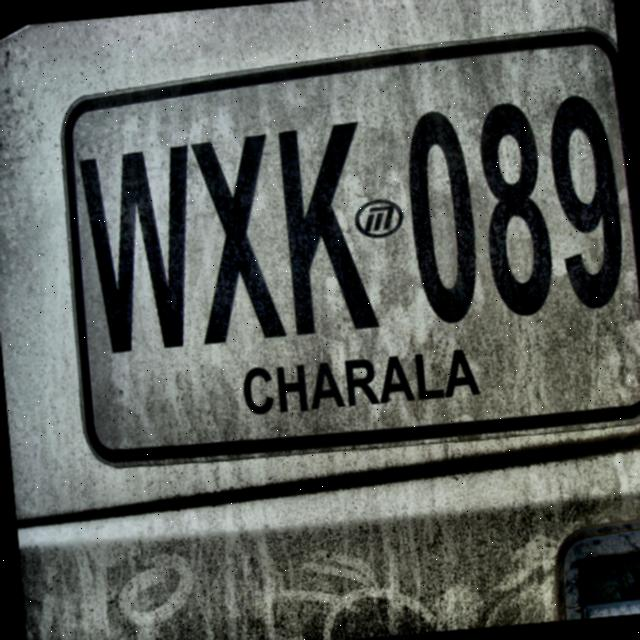plate: (63, 32, 640, 466)
